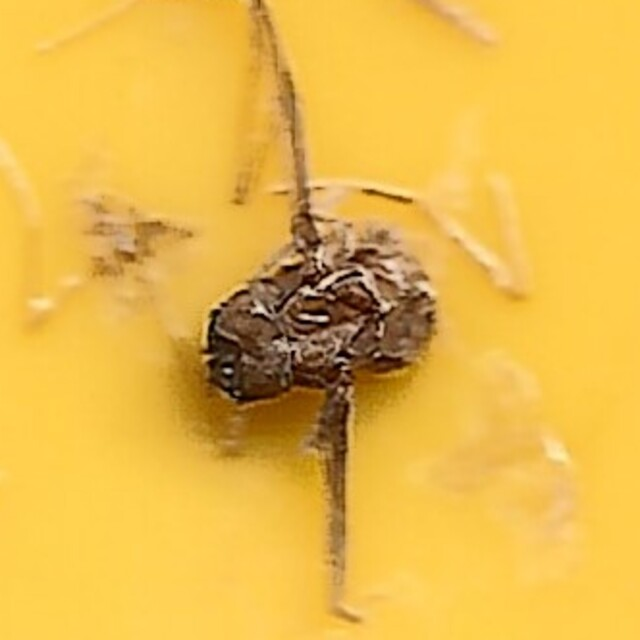Ephemeroptera: (193, 218, 447, 422)
